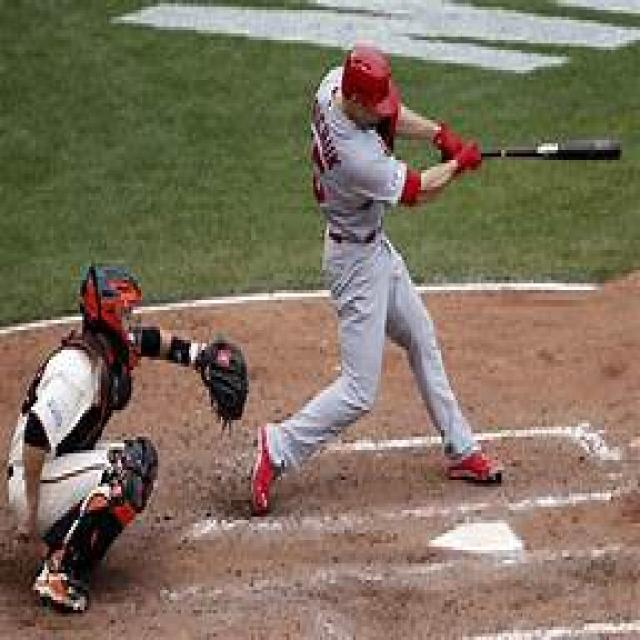bat: (441, 132, 628, 176)
